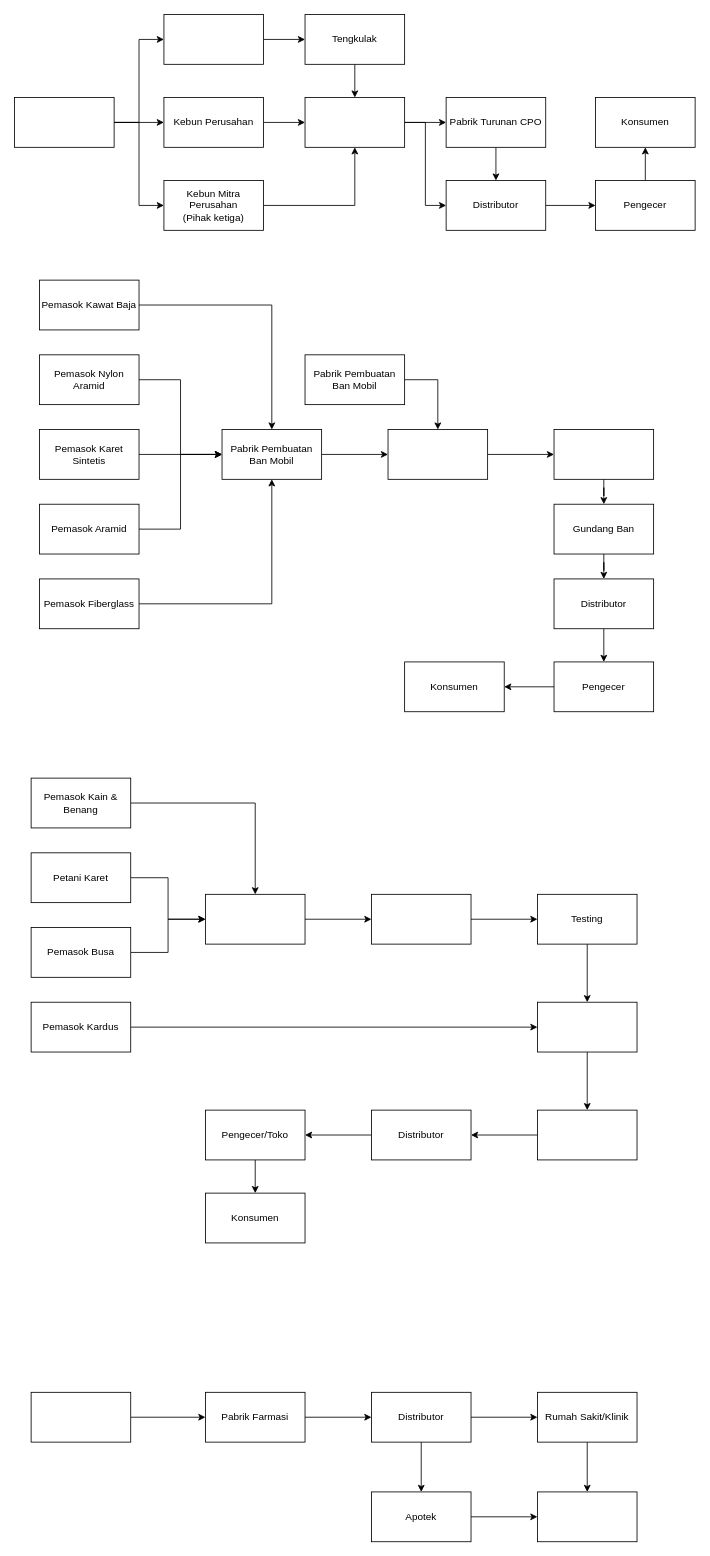
The diagram is 710 pixels wide and 1556 high, and some of its shapes have lost their labels. The centre of each missing label's shape, as x and y in pixels:
Gudang Bahan Baku: [255,918]
Gudang Sepatu: [587,1134]
Kebun Pembibitan: [64,122]
Pabrik Kelapa Sawit: [354,122]
Pabrik Sepatu: [421,918]
Pasien: [587,1516]
Pemasok Bahan Kimia: [80,1416]
Pencapuran Bahan Baku dengan Zat Kimai: [437,454]
Pengemasan: [587,1026]
Pengujian Ban: [603,454]
Petani Swadaya: [213,39]
